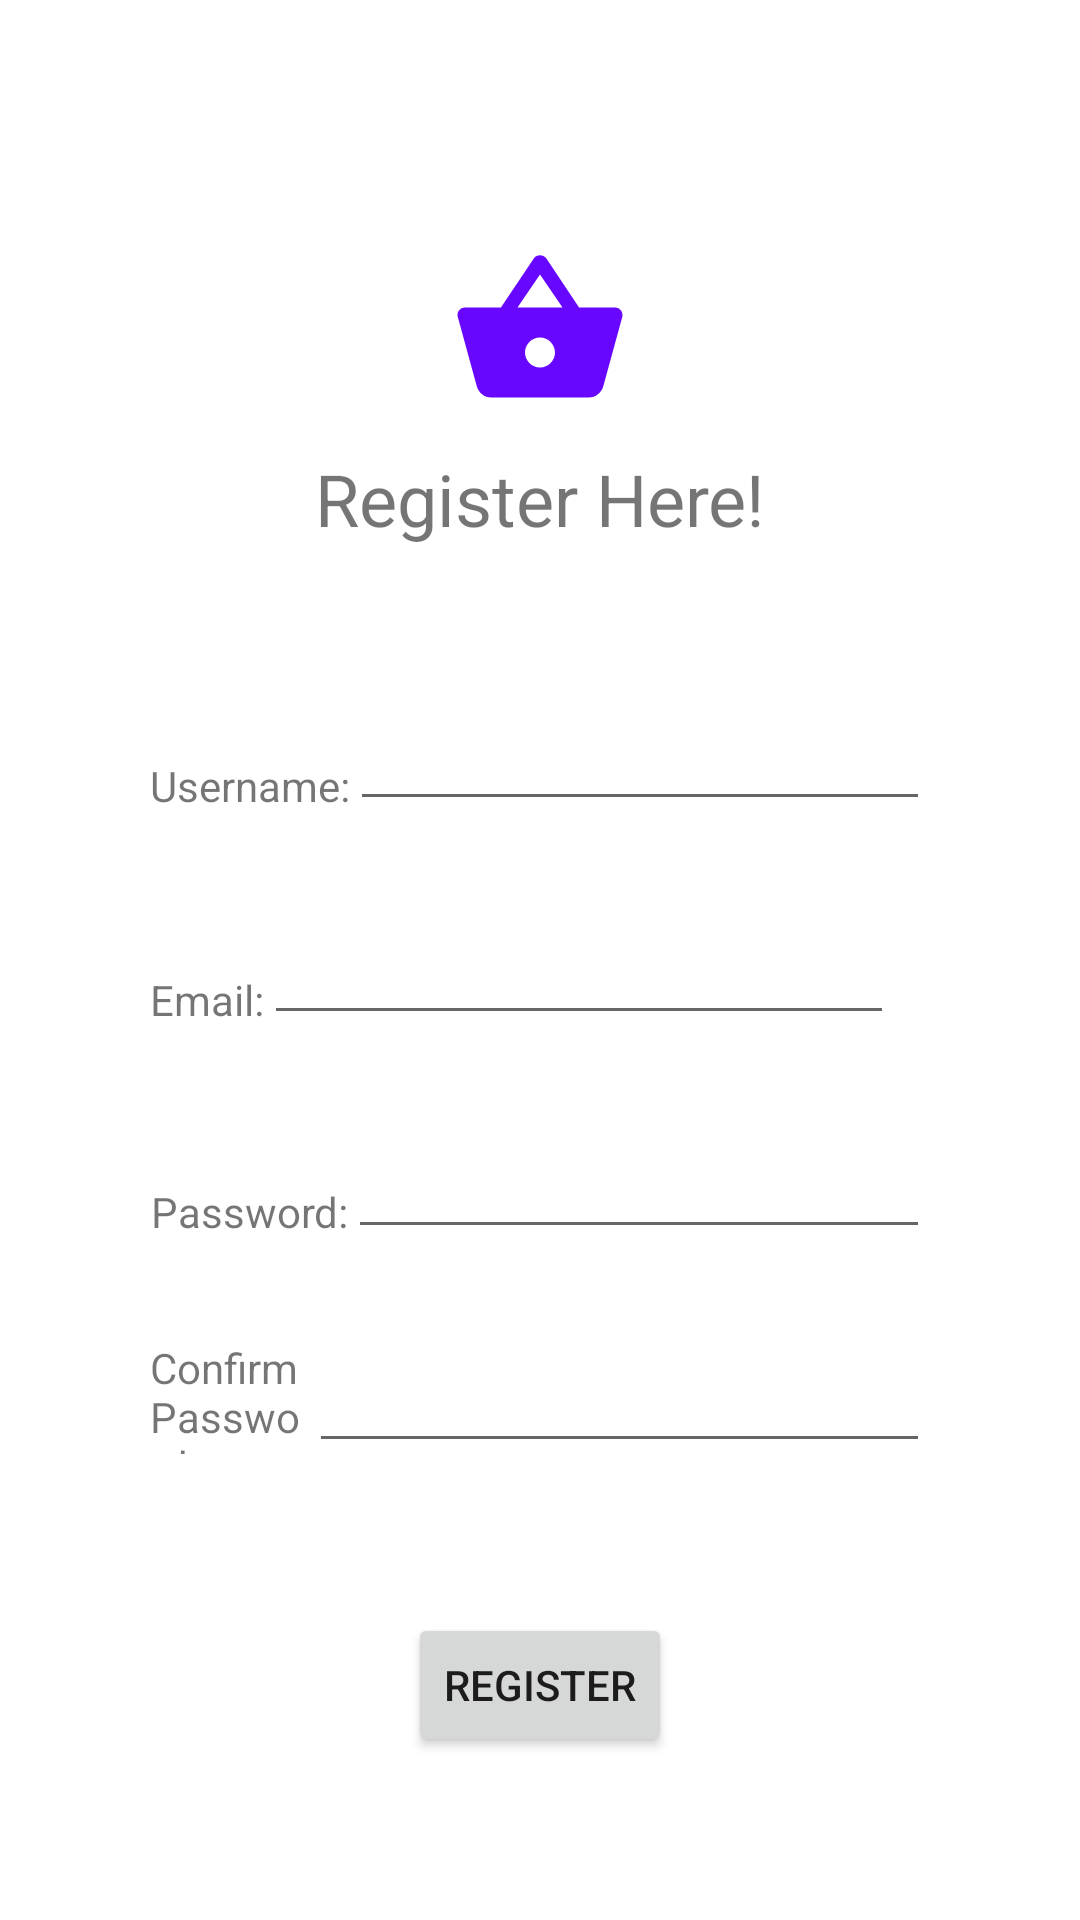

Icons on this 1080x1920 Android screen, each with its box as (x1, y1, x2, y2):
shopping basket: (457, 255, 623, 398)
